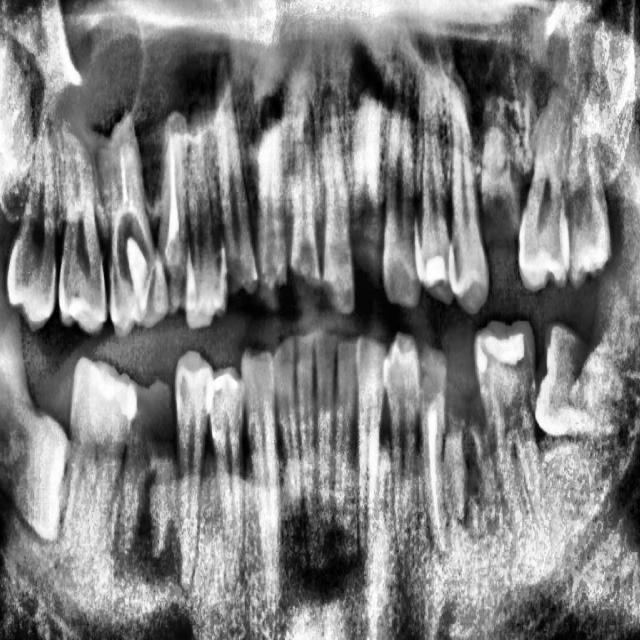Impacted Tooth: (0, 337, 72, 544), (537, 302, 624, 447)
